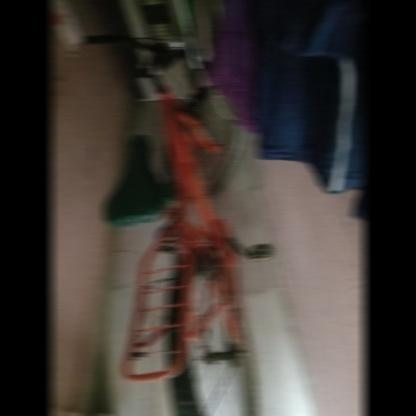Bicycle: (60, 10, 306, 416)
